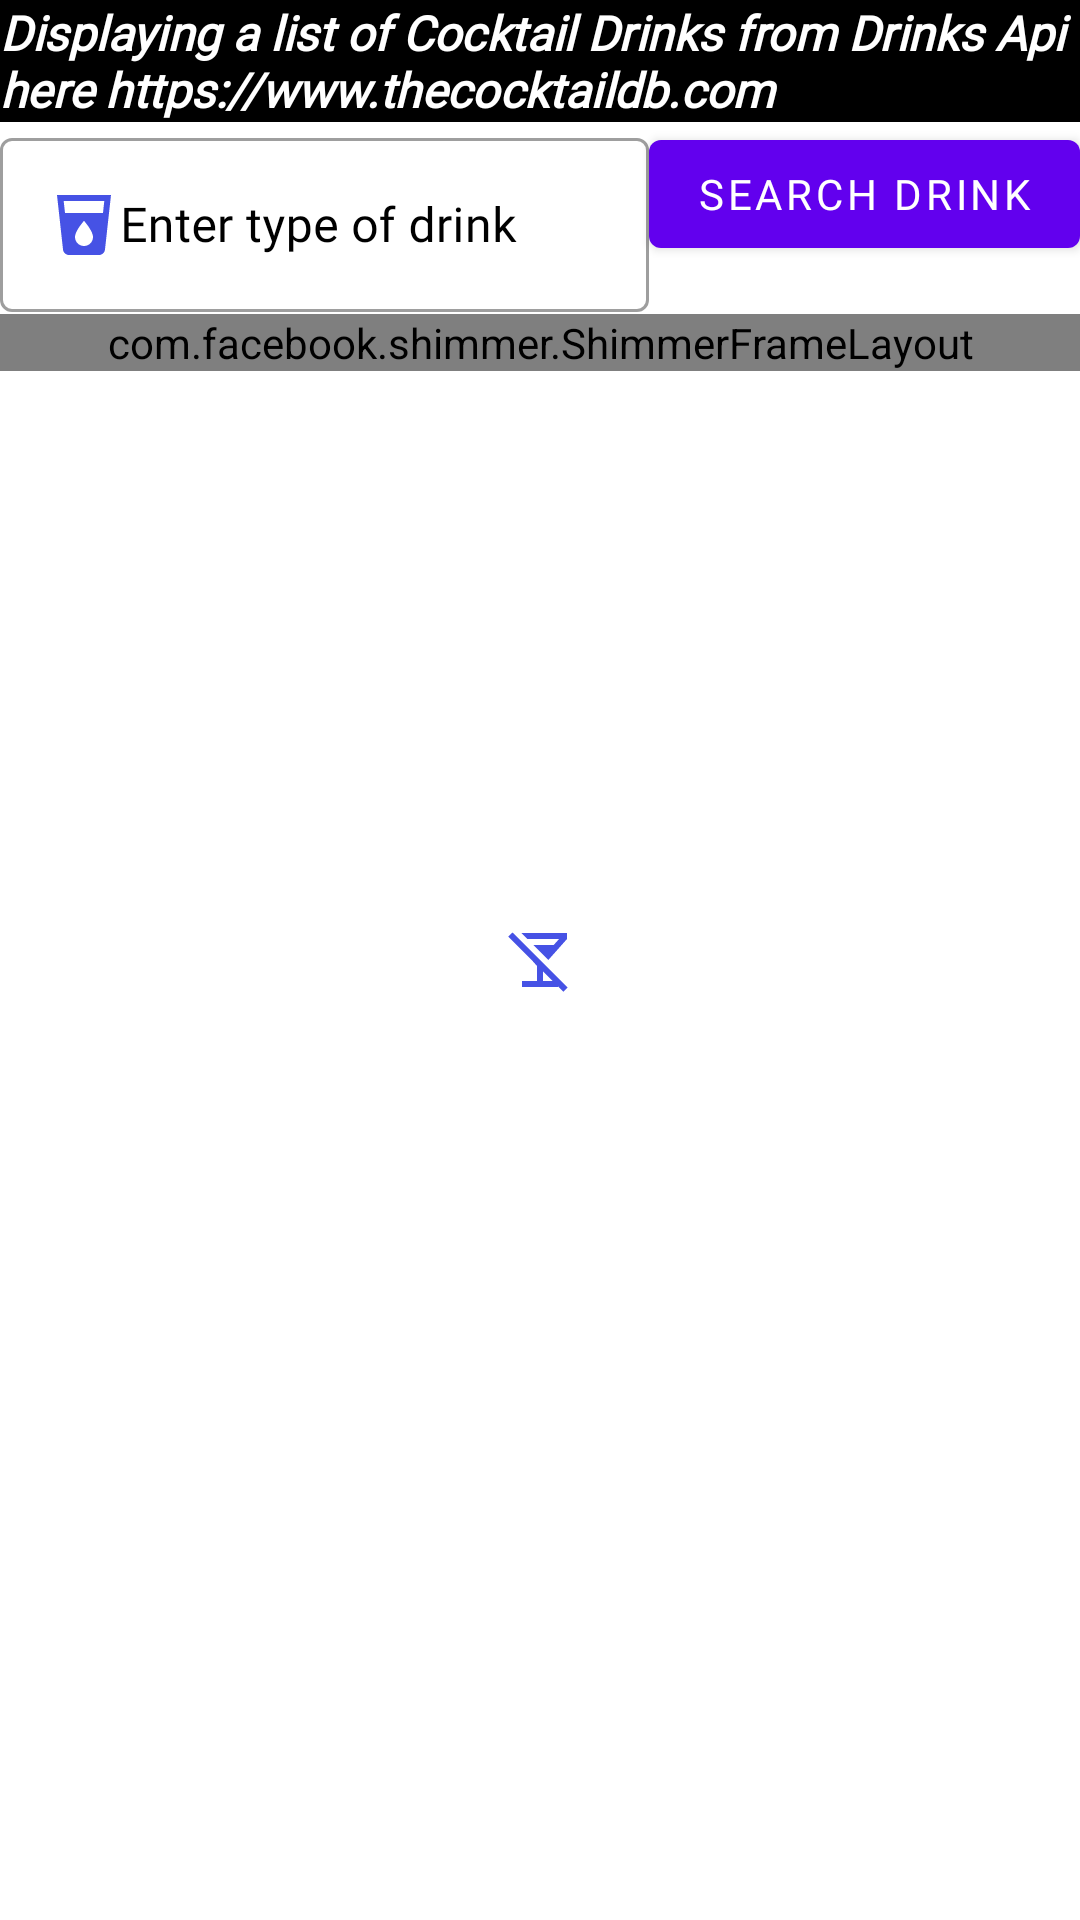

Icons on this 1080x1920 Android screen, each with its box as (x1, y1, x2, y2):
no drinks: (508, 932, 568, 992)
